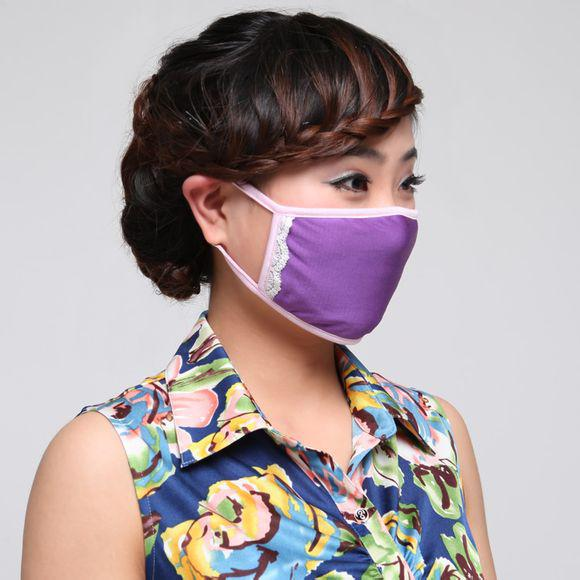OK: (235, 144, 420, 329)
